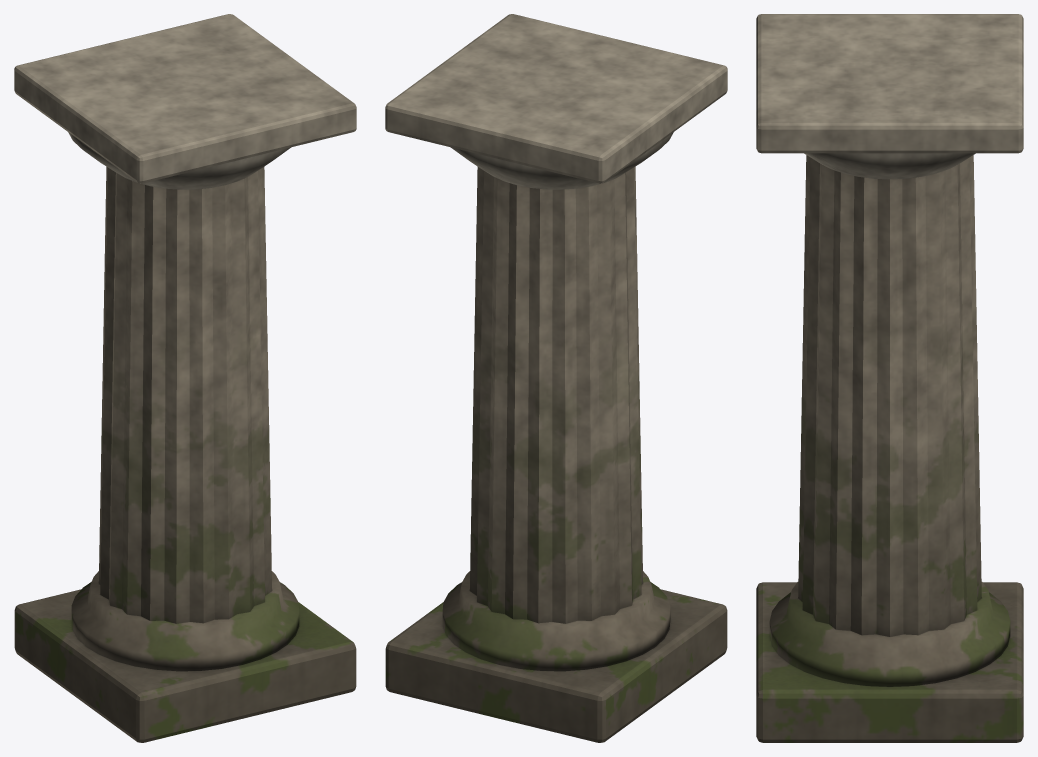
Rendered from cenario_coluna.glb.
3 views of the same model, side by side, from view 1: azimuth 30°, elevation 25°; view 2: azimuth 150°, elevation 25°; view 3: azimuth 270°, elevation 25° (orthographic). The views are drawn at different scales.
Visible parts, largest first — view 1: cenario_coluna_tronco; view 2: cenario_coluna_tronco; view 3: cenario_coluna_tronco.
Boxes of the visible parts, <box> form: cenario_coluna_tronco: <box>14,14,356,742</box>; cenario_coluna_tronco: <box>385,14,727,742</box>; cenario_coluna_tronco: <box>756,14,1023,742</box>.
Bounding box in the file's own units: 1.6 × 4.1 × 1.6.
Materials: 1 (1 with a texture image).
